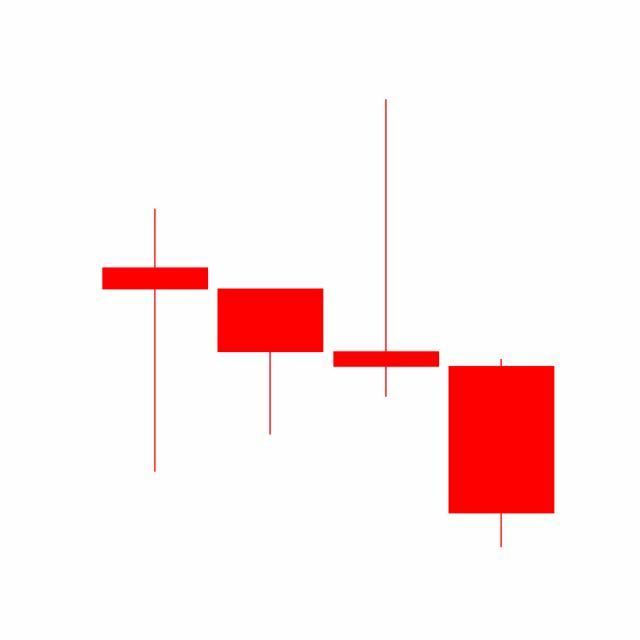Spinning Top: (329, 96, 445, 401)
